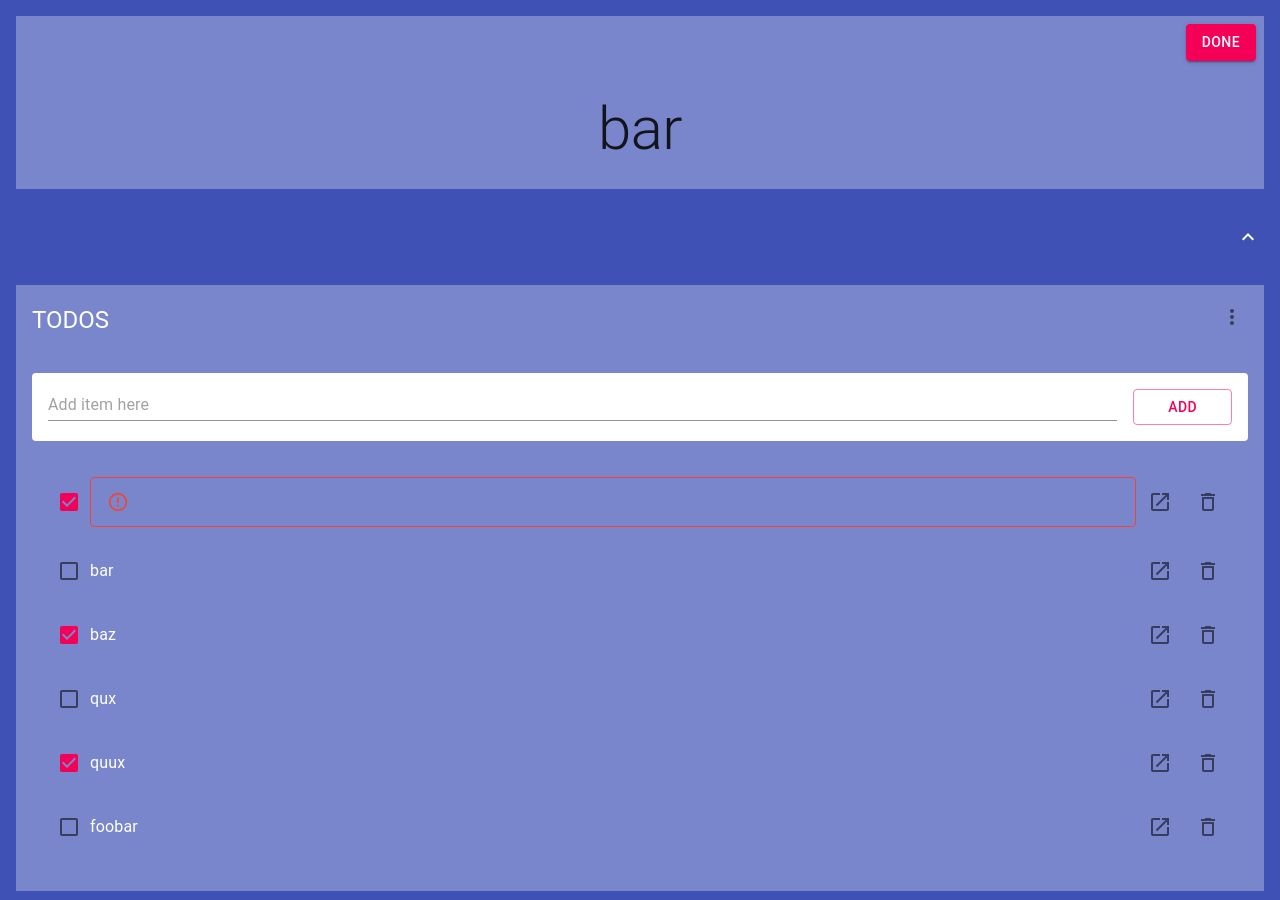
Visibility filters › SHOW_COMPLETED
Click the button named "setting": (1232, 316) [1208, 292, 1256, 340]
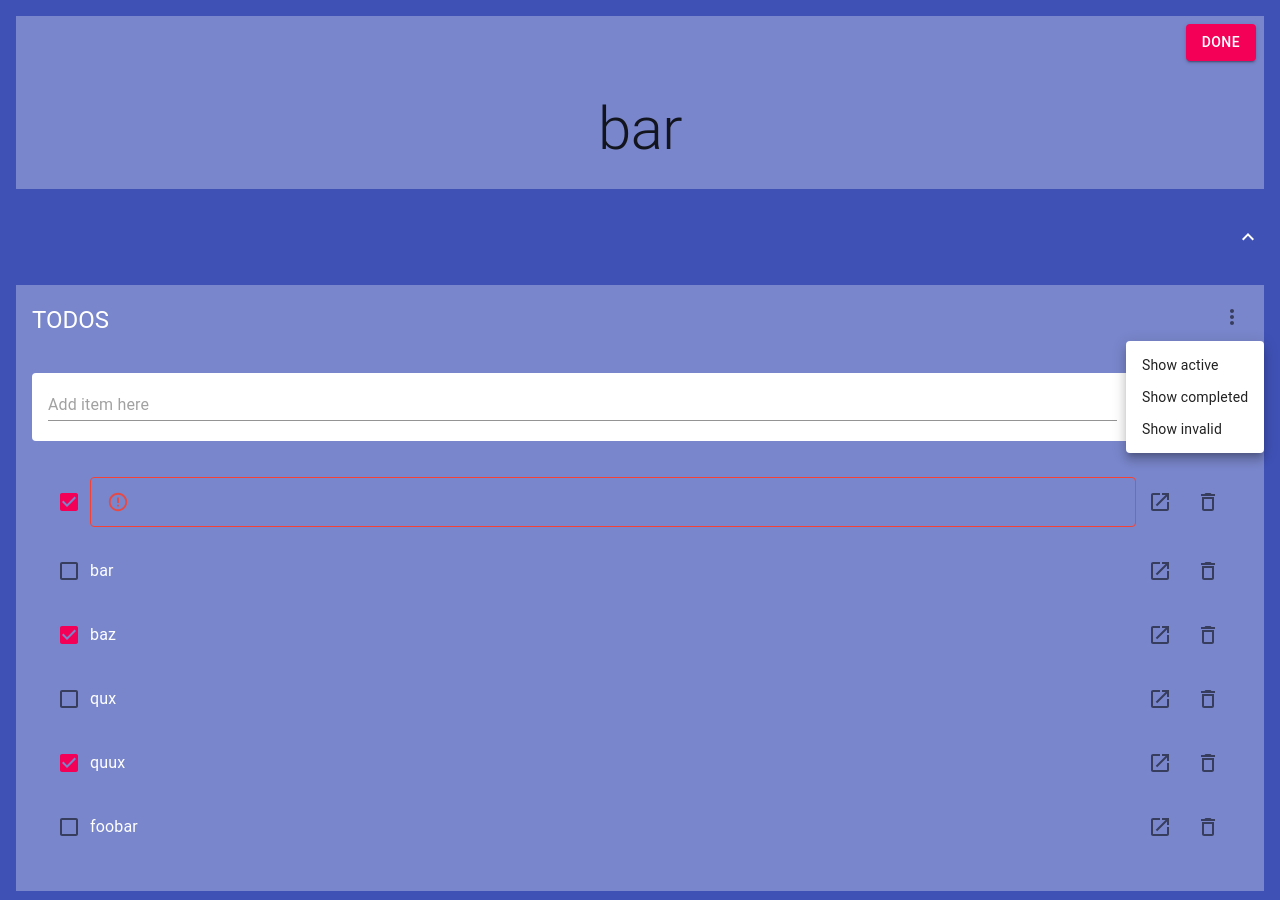
Click the menu item "Show completed": (1195, 397) [1142, 389, 1248, 405]
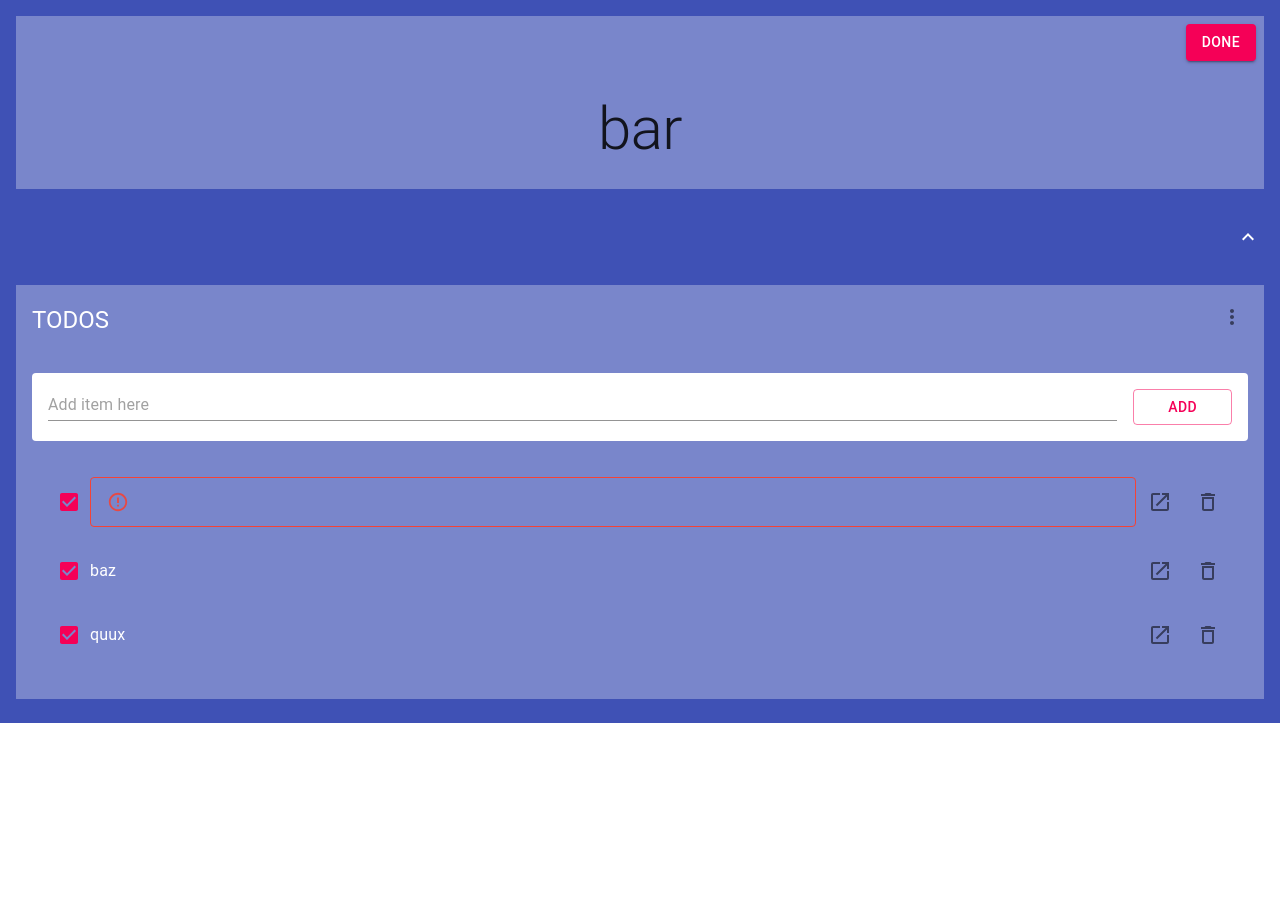
Expected: the list items read "", "baz", "quux", in this order, [32, 465, 1248, 539]; [32, 539, 1248, 603]; [32, 603, 1248, 667]
